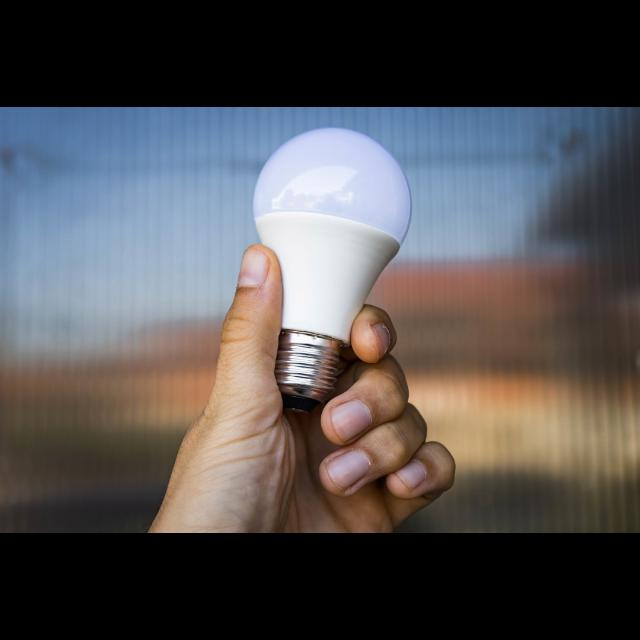light_bulb: (249, 120, 413, 414)
